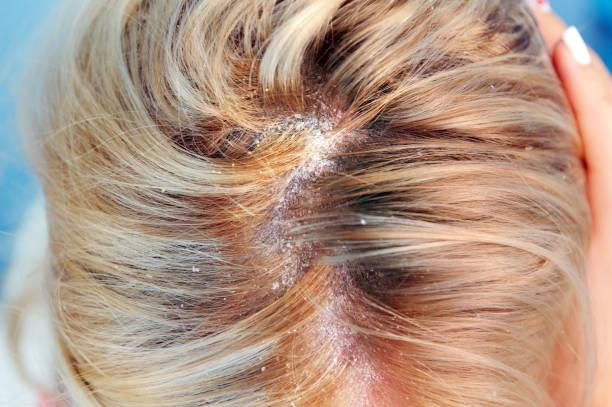dandruff: (262, 101, 346, 182), (263, 186, 301, 306), (178, 256, 205, 281)
